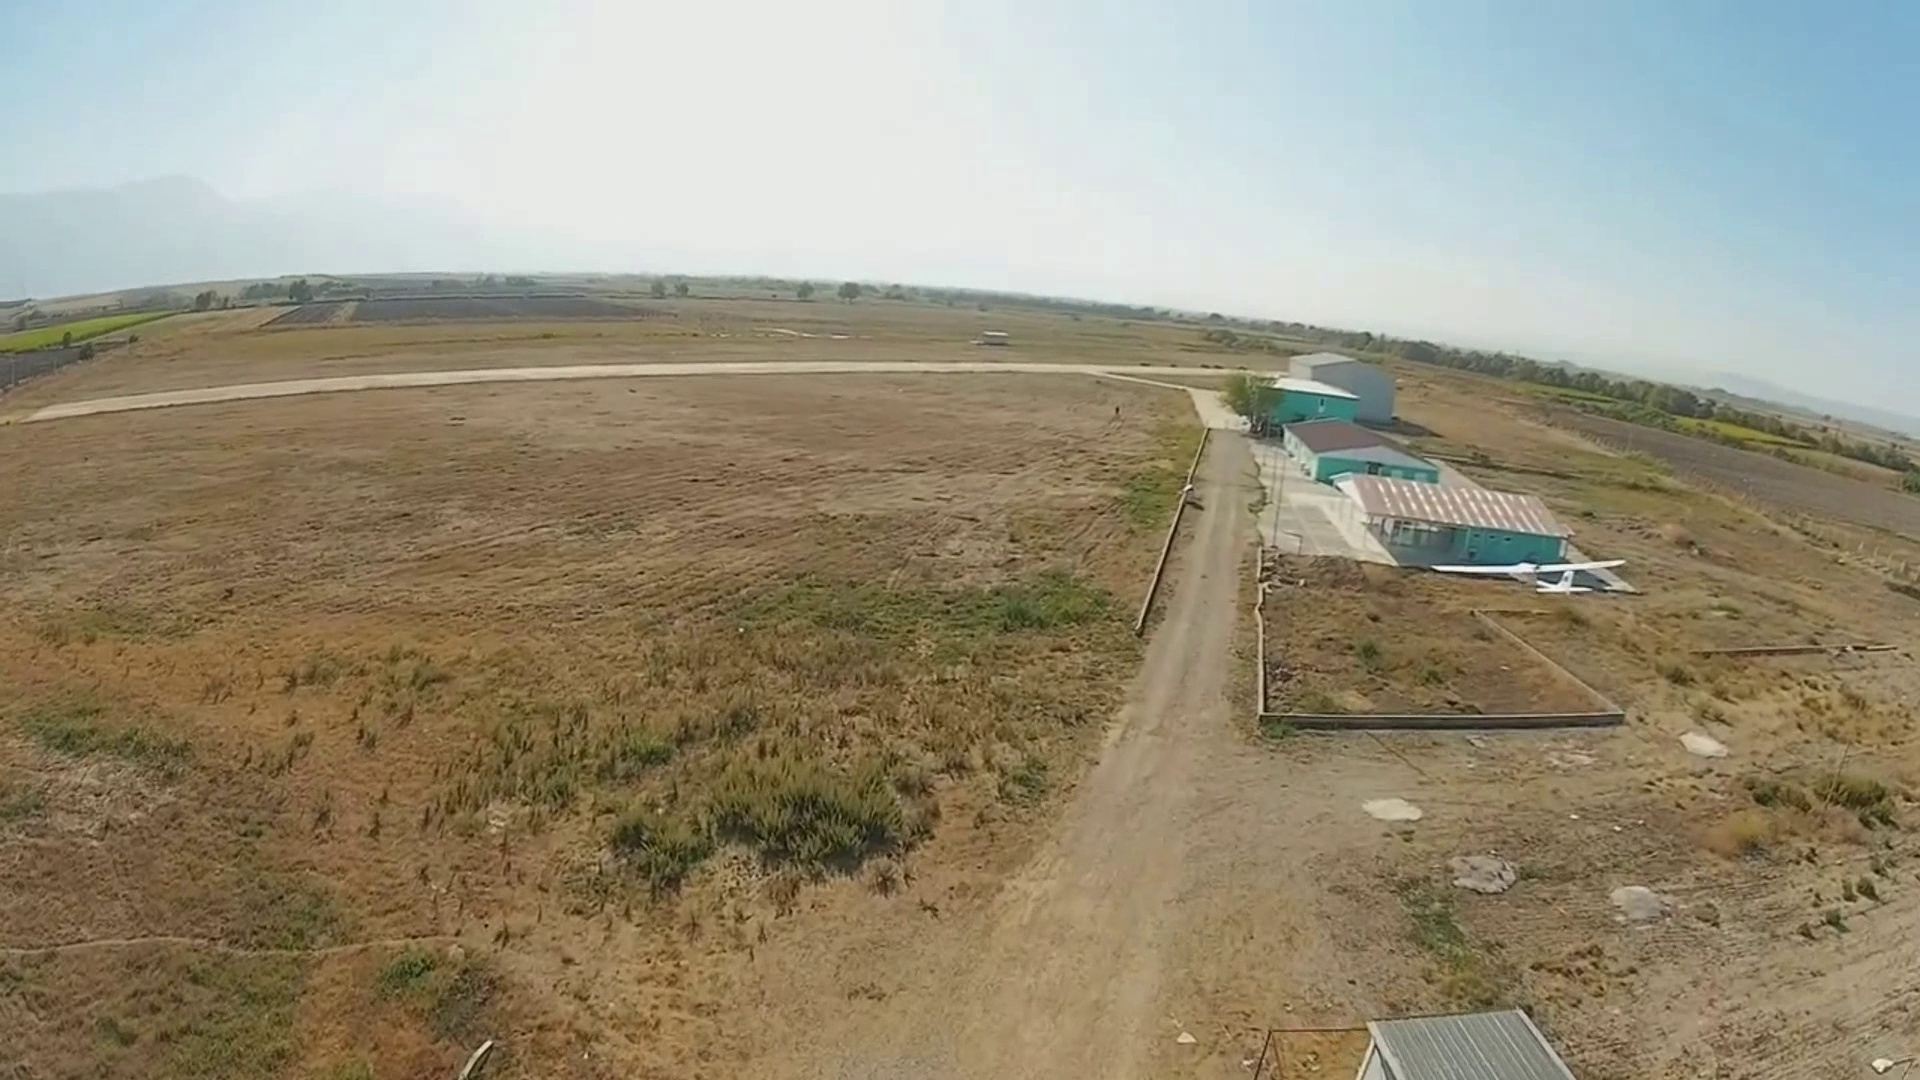airplane: (1237, 357, 1634, 592)
